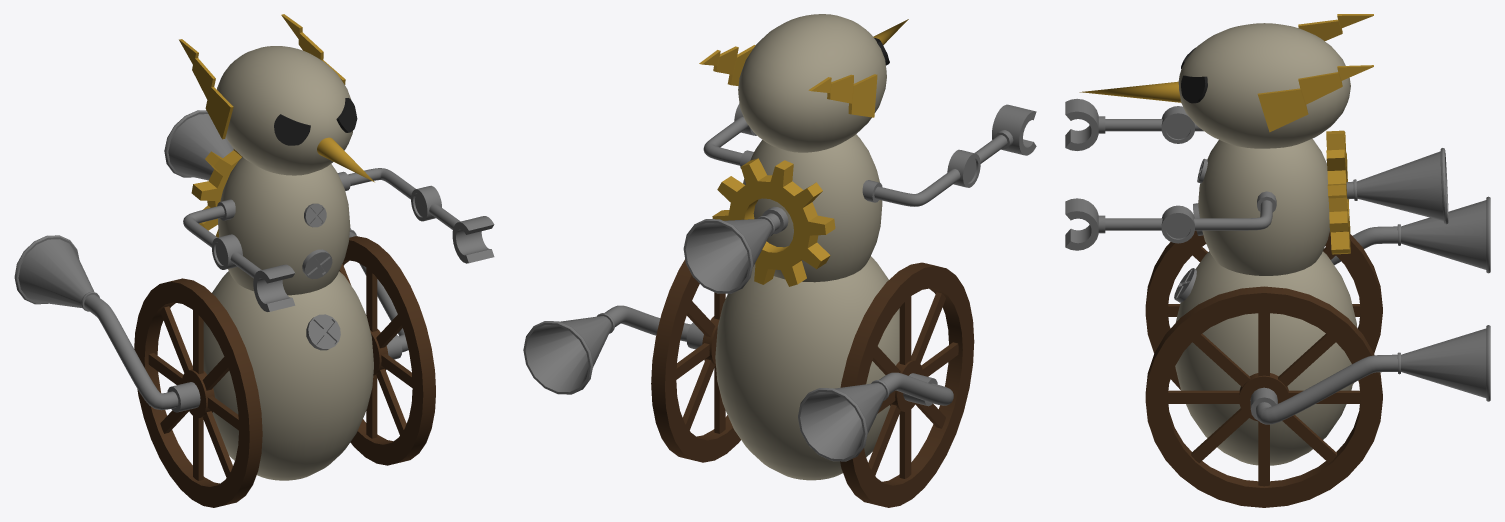
File: Rapido.fbx
3 renders of one model, left to right at view 1: azimuth 30°, elevation 25°; view 2: azimuth 150°, elevation 25°; view 3: azimuth 270°, elevation 25°, orthographic. The views are drawn at different scales.
Parts seen in each view (by area): view 1: Cylinder.081, Base.006, Cabeca, Corpo.006, Escapamento2, Escapamento1, maos, Bracos, Raios, Juntas.002, Engrenagem.004, Olhos.003 (+3 smaller); view 2: Cylinder.081, Base.006, Cabeca, Escapamento2, Corpo.006, Engrenagem.004, Escapamento1, Bracos, Raios, maos, Juntas.002; view 3: Cylinder.081, Base.006, Cabeca, Corpo.006, Escapamento2, Escapamento1, Raios, Bracos, maos, Engrenagem.004, Juntas.002, Cenoura.002 (+1 smaller).
Boxes of the visible parts, x1=… form: Cylinder.081: x1=134, y1=236, x2=435, y2=507; Base.006: x1=203, y1=271, x2=373, y2=480; Cabeca: x1=217, y1=46, x2=352, y2=175; Corpo.006: x1=218, y1=157, x2=350, y2=295; Escapamento2: x1=14, y1=227, x2=408, y2=412; Escapamento1: x1=164, y1=110, x2=233, y2=180; maos: x1=253, y1=216, x2=494, y2=311; Bracos: x1=183, y1=168, x2=460, y2=278; Raios: x1=179, y1=14, x2=345, y2=139; Juntas.002: x1=212, y1=185, x2=441, y2=269; Engrenagem.004: x1=191, y1=149, x2=242, y2=237; Olhos.003: x1=274, y1=98, x2=357, y2=145; Cylinder.081: x1=651, y1=259, x2=974, y2=507; Base.006: x1=715, y1=256, x2=899, y2=480; Cabeca: x1=738, y1=14, x2=886, y2=152; Escapamento2: x1=523, y1=305, x2=953, y2=461; Corpo.006: x1=743, y1=134, x2=882, y2=282; Engrenagem.004: x1=712, y1=158, x2=835, y2=286; Escapamento1: x1=683, y1=206, x2=788, y2=293; Bracos: x1=703, y1=117, x2=1013, y2=206; Raios: x1=699, y1=45, x2=877, y2=117; maos: x1=992, y1=104, x2=1036, y2=155; Juntas.002: x1=734, y1=103, x2=980, y2=187; Cylinder.081: x1=1145, y1=230, x2=1382, y2=507; Base.006: x1=1175, y1=251, x2=1357, y2=465; Cabeca: x1=1178, y1=23, x2=1350, y2=148; Corpo.006: x1=1198, y1=138, x2=1329, y2=275; Escapamento2: x1=1250, y1=196, x2=1490, y2=424; Escapamento1: x1=1346, y1=148, x2=1448, y2=224; Raios: x1=1257, y1=14, x2=1373, y2=132; Bracos: x1=1098, y1=116, x2=1276, y2=233; maos: x1=1065, y1=98, x2=1098, y2=250; Engrenagem.004: x1=1326, y1=130, x2=1350, y2=254; Juntas.002: x1=1161, y1=106, x2=1194, y2=243; Cenoura.002: x1=1079, y1=81, x2=1181, y2=102.
Bounding box in the file's own units: 103 × 129 × 116.
